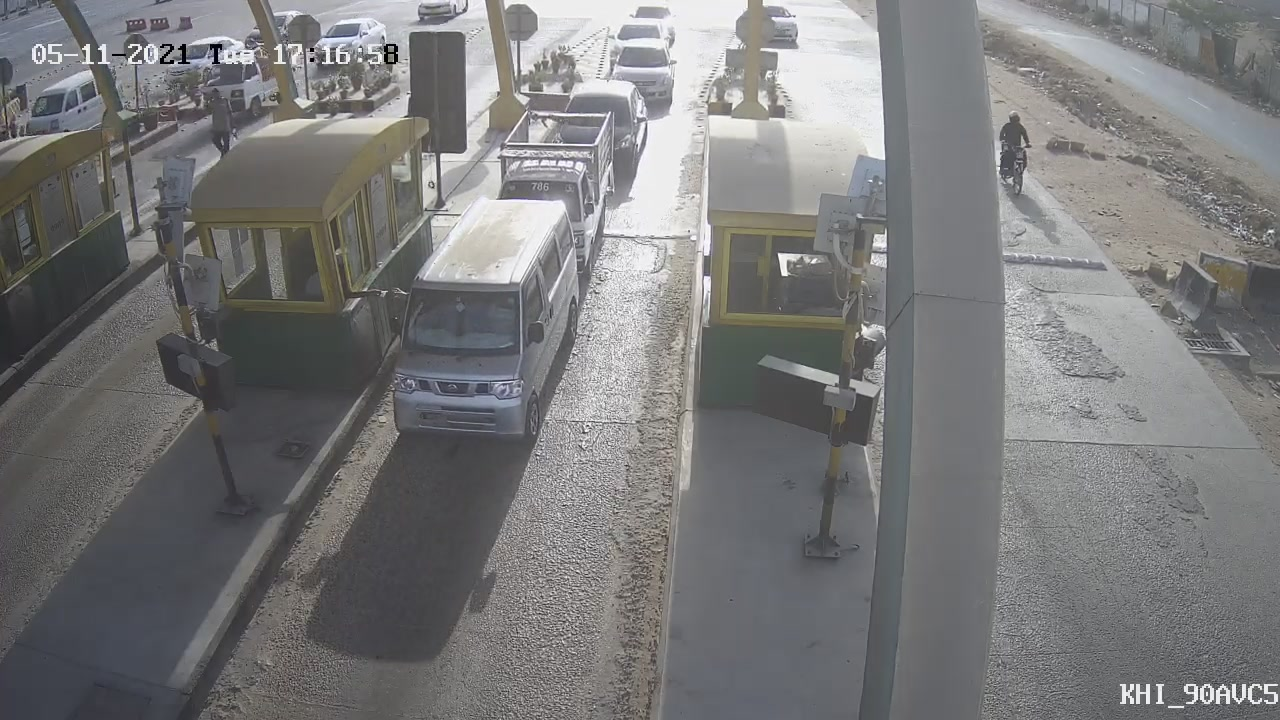F1: (374, 173, 601, 470)
